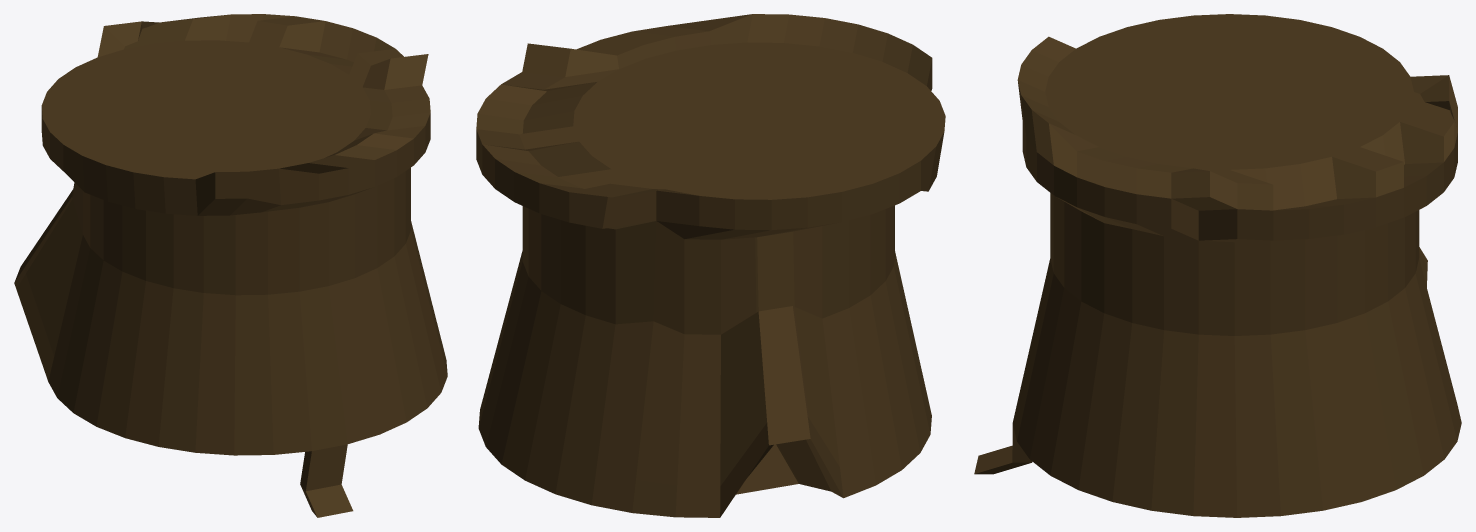
File: stump.obj
3 renders of one model, left to right at view 1: azimuth 30°, elevation 25°; view 2: azimuth 150°, elevation 25°; view 3: azimuth 270°, elevation 25°, orthographic. The views are drawn at different scales.
Visible parts, largest first — view 1: Cylinder; view 2: Cylinder; view 3: Cylinder.
Boxes of the visible parts, left/top/right/bottom form: Cylinder: left=14, top=14, right=447, bottom=517; Cylinder: left=476, top=14, right=945, bottom=517; Cylinder: left=974, top=14, right=1461, bottom=517.
Size of the model in its own units: 2.53 by 2.28 by 2.64.
